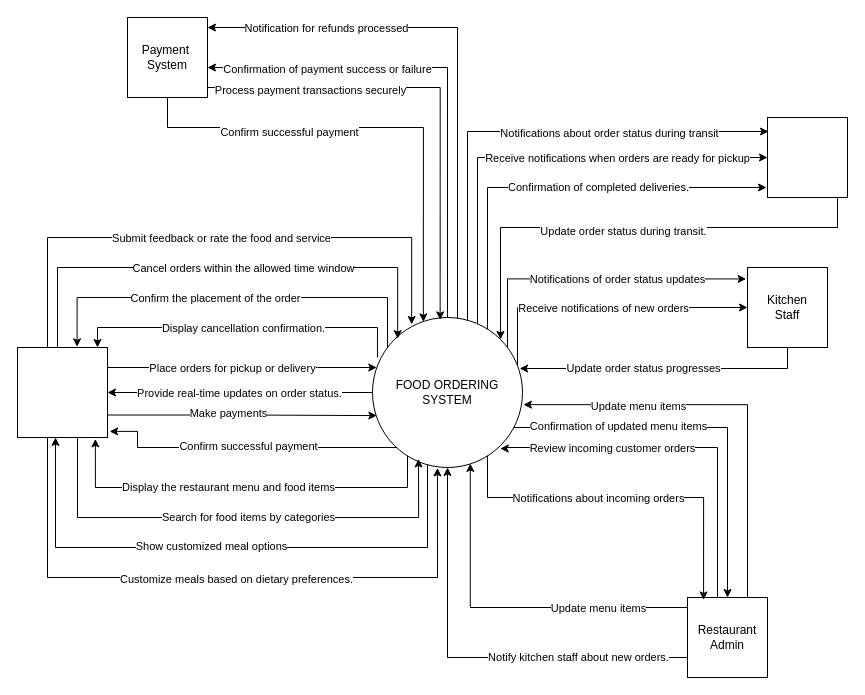
Some shapes in this 865 by 695 pixel diagram are drawn without their labels. The shapes that lost their labels are listed below. From the top down, each one's centre as x and y in pixels, then its label:
At pixel 807 157: "Delivery personnel".
At pixel 62 392: "Customer".
